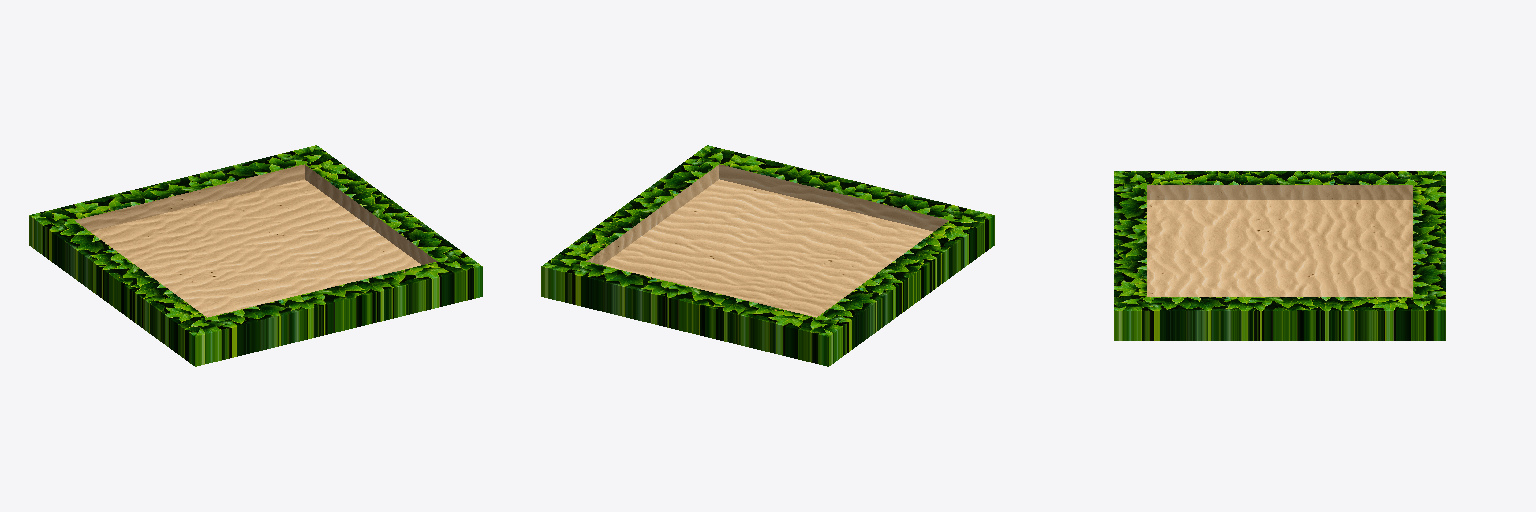
3 renders of one model, left to right at view 1: azimuth 30°, elevation 25°; view 2: azimuth 150°, elevation 25°; view 3: azimuth 270°, elevation 25°, orthographic.
Parts seen in each view (by area): view 1: Cube; view 2: Cube; view 3: Cube.
Boxes of the visible parts, <box> form: Cube: <box>29,145,482,366</box>; Cube: <box>541,145,994,366</box>; Cube: <box>1114,171,1445,340</box>.
Size of the model in its own units: 20 by 2 by 20.
1 materials, 1 textured.